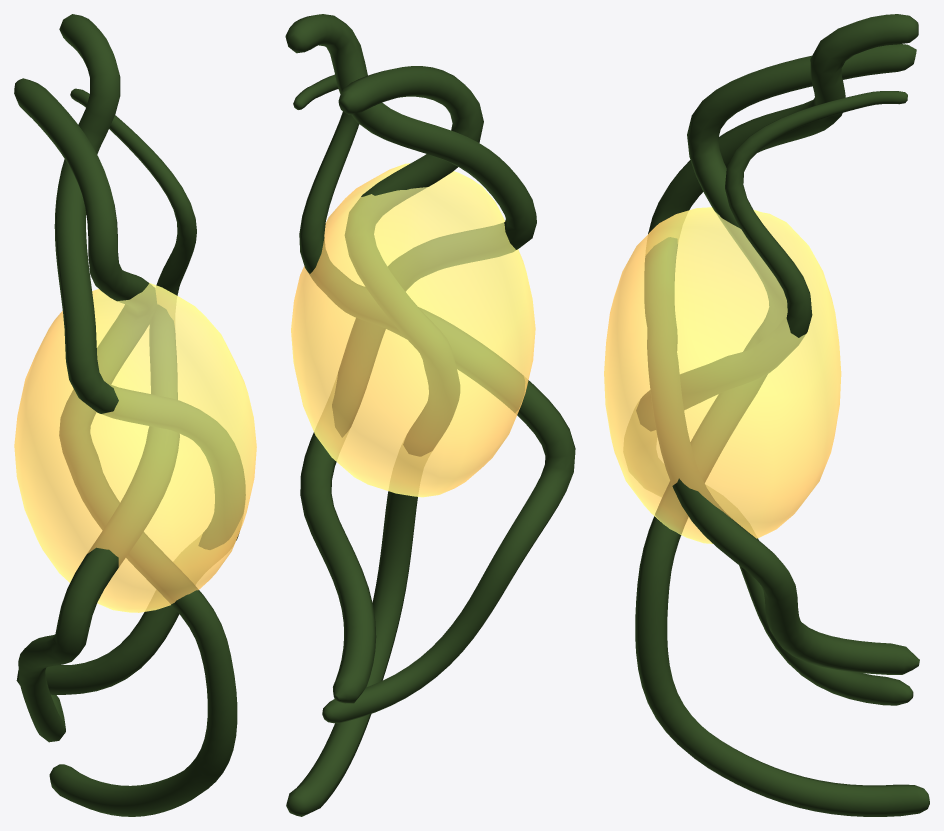
File: sizzle_propAsset_amberModel_V01.fbx
3 renders of one model, left to right at view 1: azimuth 30°, elevation 25°; view 2: azimuth 150°, elevation 25°; view 3: azimuth 270°, elevation 25°, orthographic. The views are drawn at different scales.
Parts seen in each view (by area): view 1: amberCore, vine_03, vine_02, vine_01; view 2: amberCore, vine_02, vine_03, vine_01; view 3: amberCore, vine_03, vine_02, vine_01.
Boxes of the visible parts, x1,y1,x2,y2 form: amberCore: [14, 283, 256, 612]; vine_03: [14, 78, 237, 816]; vine_02: [16, 14, 245, 694]; vine_01: [18, 88, 196, 742]; amberCore: [291, 163, 535, 497]; vine_02: [285, 14, 536, 703]; vine_03: [286, 66, 483, 816]; vine_01: [293, 74, 575, 723]; amberCore: [604, 207, 841, 543]; vine_03: [635, 44, 929, 816]; vine_02: [644, 14, 919, 674]; vine_01: [636, 91, 913, 705].
Size of the model in its own units: 53.5 by 66.69 by 181.
